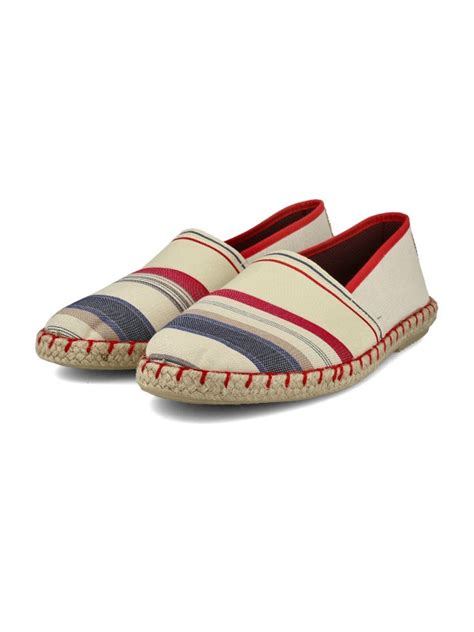nylon: (43, 198, 435, 377)
